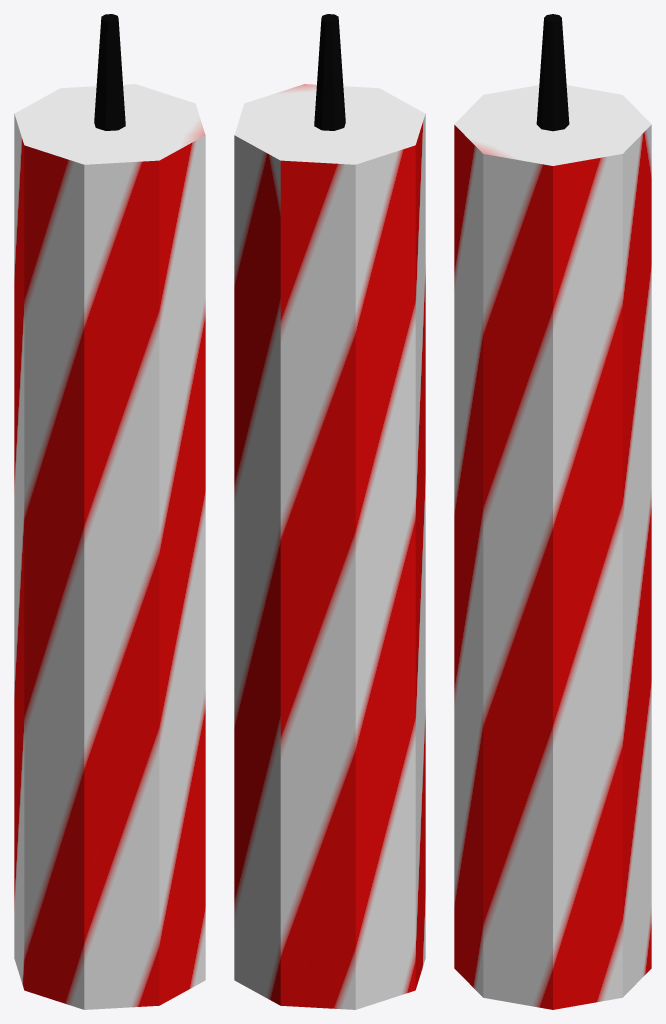
The model's file is Candle.fbx.
3 views of the same model, side by side, from view 1: azimuth 30°, elevation 25°; view 2: azimuth 150°, elevation 25°; view 3: azimuth 270°, elevation 25° (orthographic).
Visible parts, largest first — view 1: Candle; view 2: Candle; view 3: Candle.
Part boxes in pixels (x1,y1,x2,y2): Candle: (14, 14, 205, 1009); Candle: (234, 14, 425, 1009); Candle: (454, 14, 651, 1009).
Bounding box in the file's own units: 46.06 × 245 × 46.06.
